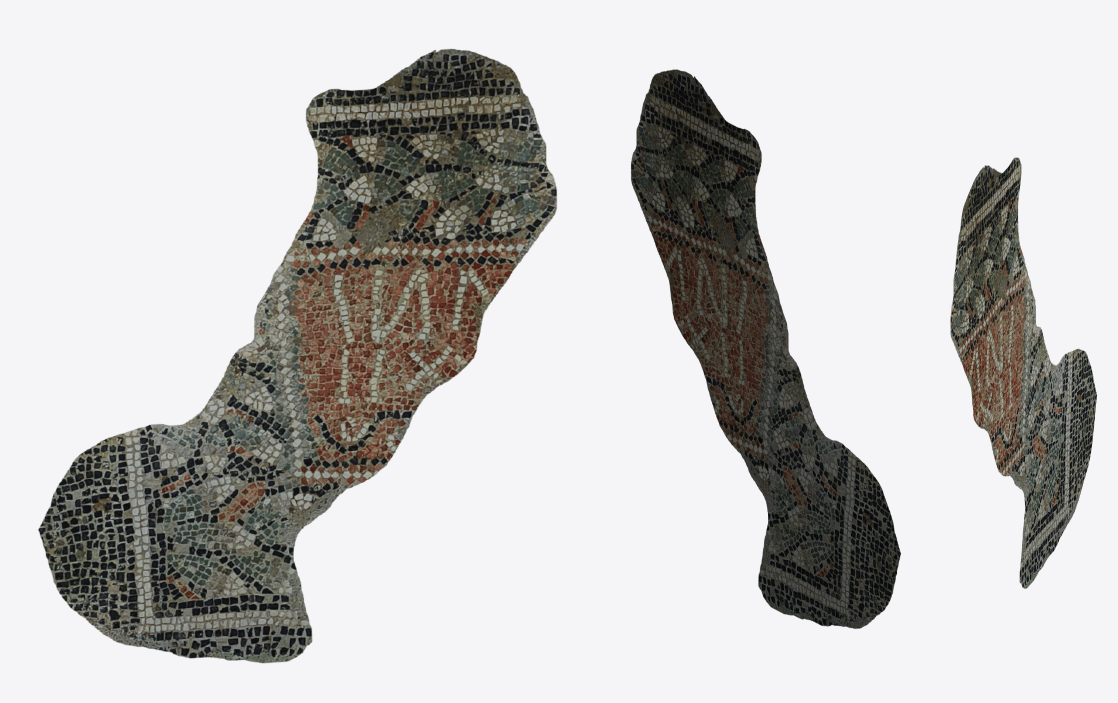
The model's file is primary.glb.
3 renders of one model, left to right at view 1: azimuth 30°, elevation 25°; view 2: azimuth 150°, elevation 25°; view 3: azimuth 270°, elevation 25°, orthographic. The views are drawn at different scales.
Parts seen in each view (by area): view 1: thb; view 2: thb; view 3: thb.
Part boxes in pixels (x1,y1,x2,y2): thb: (38,49,556,663); thb: (631,69,900,628); thb: (950,157,1096,588).
Size of the model in its own units: 1.99 by 2.58 by 0.7626.
1 material, 1 textured.
